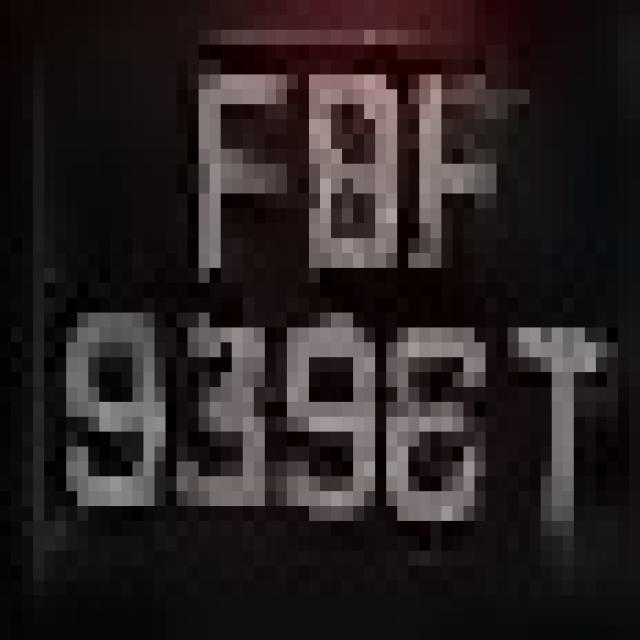3: (154, 283, 276, 536)
6: (386, 298, 486, 550)
9: (33, 253, 166, 506), (265, 283, 364, 580)
B: (287, 45, 397, 312)
F: (419, 45, 530, 328), (165, 60, 276, 298)
T: (474, 282, 607, 550)
